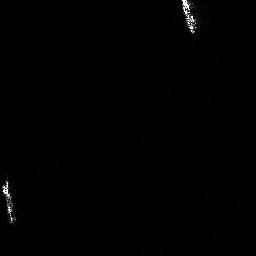ship: (1, 176, 19, 225), (178, 1, 199, 34)
